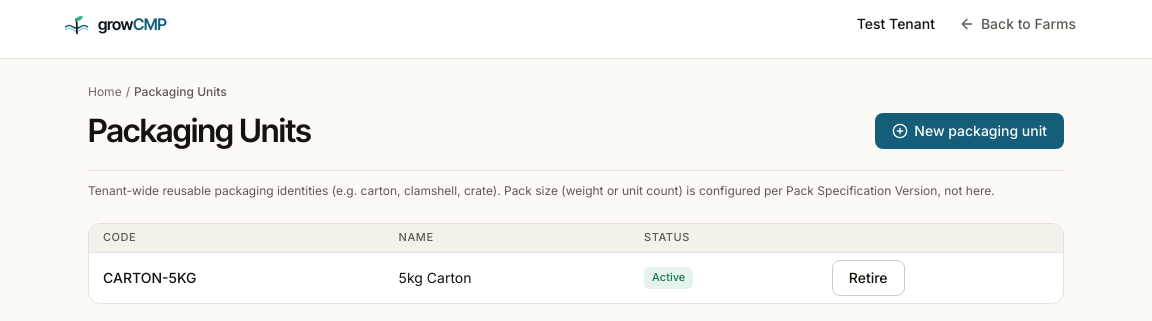
Test: PackagingUnitsPage › retires an active packaging unit explicitly
Click the button "Retire". click: [868, 278]
box: [832,260,905,296]
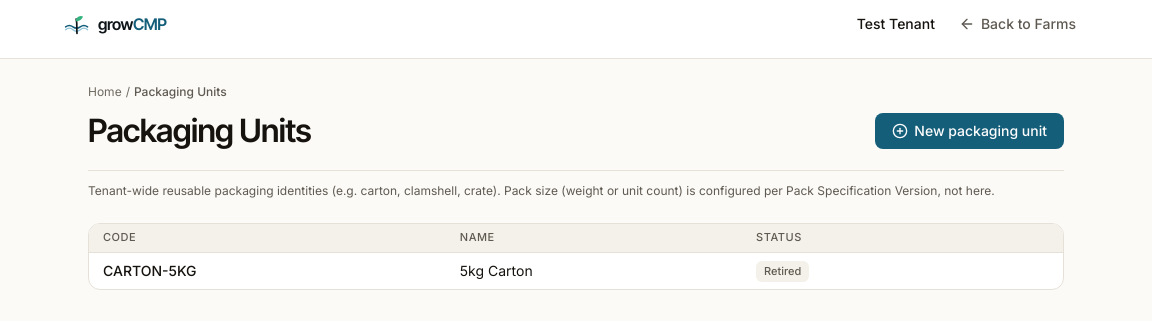
Now the text "Retired" is shown, box [756,260,809,282]
